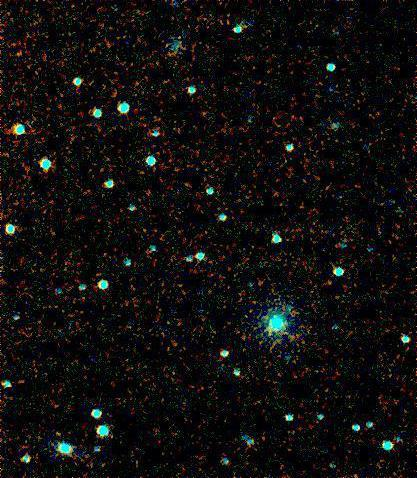star: (41, 421, 71, 451)
